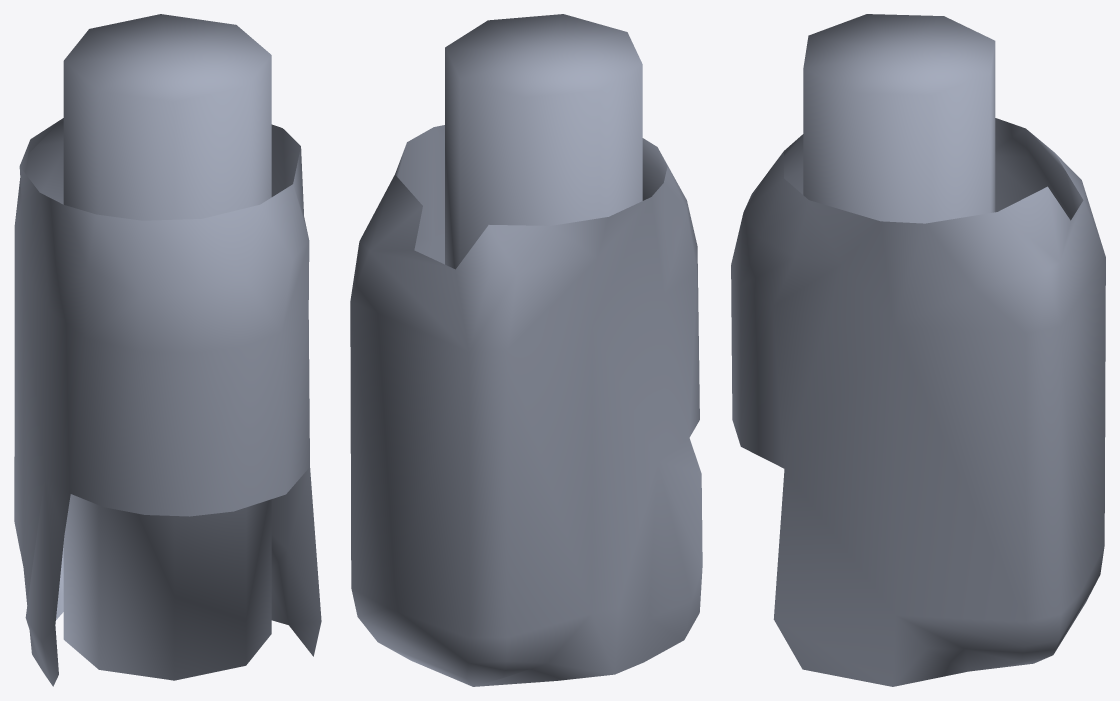
File: r_arm.dae
The picture shows the model from 3 angles, left to right: view 1: azimuth 30°, elevation 25°; view 2: azimuth 150°, elevation 25°; view 3: azimuth 270°, elevation 25°; orthographic projection. The views are drawn at different scales.
Parts seen in each view (by area): view 1: r_arm_mesh; view 2: r_arm_mesh; view 3: r_arm_mesh.
Part boxes in pixels (x1,y1,x2,y2): r_arm_mesh: (14, 14, 321, 686); r_arm_mesh: (350, 14, 702, 686); r_arm_mesh: (731, 14, 1105, 686).
Size of the model in its own units: 0.0768 by 0.0943 by 0.16.
